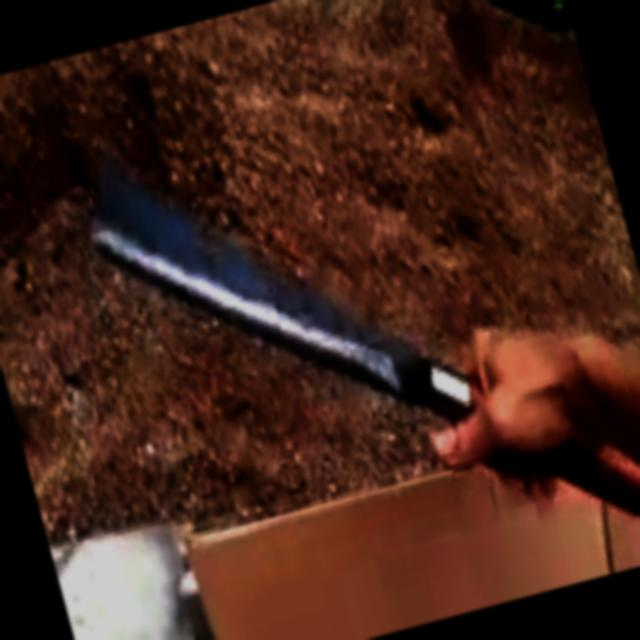eto: (91, 160, 640, 513)
